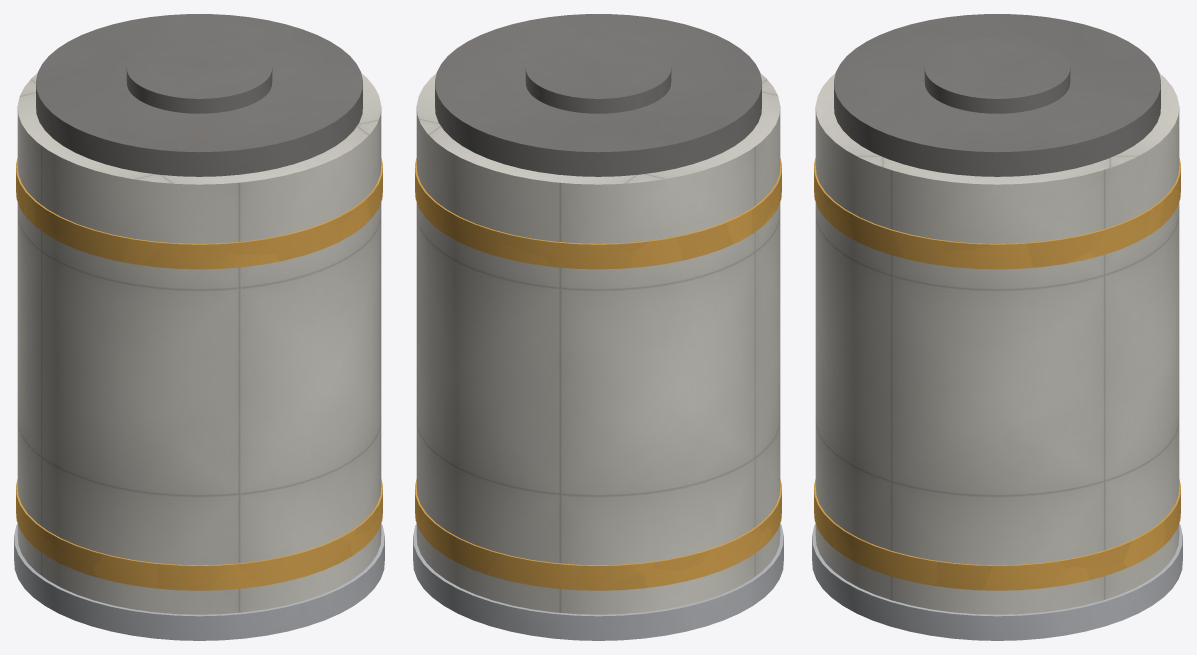
The model's file is robo03_deployable_boom_xs.glb.
3 renders of one model, left to right at view 1: azimuth 30°, elevation 25°; view 2: azimuth 150°, elevation 25°; view 3: azimuth 270°, elevation 25°, orthographic.
Visible parts, largest first — view 1: canister, boom_lid, canister_bands, base, boom_tip; view 2: canister, boom_lid, canister_bands, base, boom_tip; view 3: canister, boom_lid, canister_bands, base, boom_tip.
Boxes of the visible parts, x1,y1,x2,y2 form: canister: (17,73,381,614); boom_lid: (36,14,362,176); canister_bands: (16,158,382,590); base: (14,523,384,640); boom_tip: (126,37,272,113); canister: (416,73,780,614); boom_lid: (435,14,761,176); canister_bands: (415,158,781,590); base: (413,523,783,640); boom_tip: (525,37,671,113); canister: (815,73,1179,614); boom_lid: (834,14,1160,176); canister_bands: (814,158,1180,590); base: (812,523,1182,640); boom_tip: (924,37,1070,113).
Bounding box in the file's own units: 0.4076 × 0.6 × 0.4078.
Materials: 4 (4 with a texture image).
